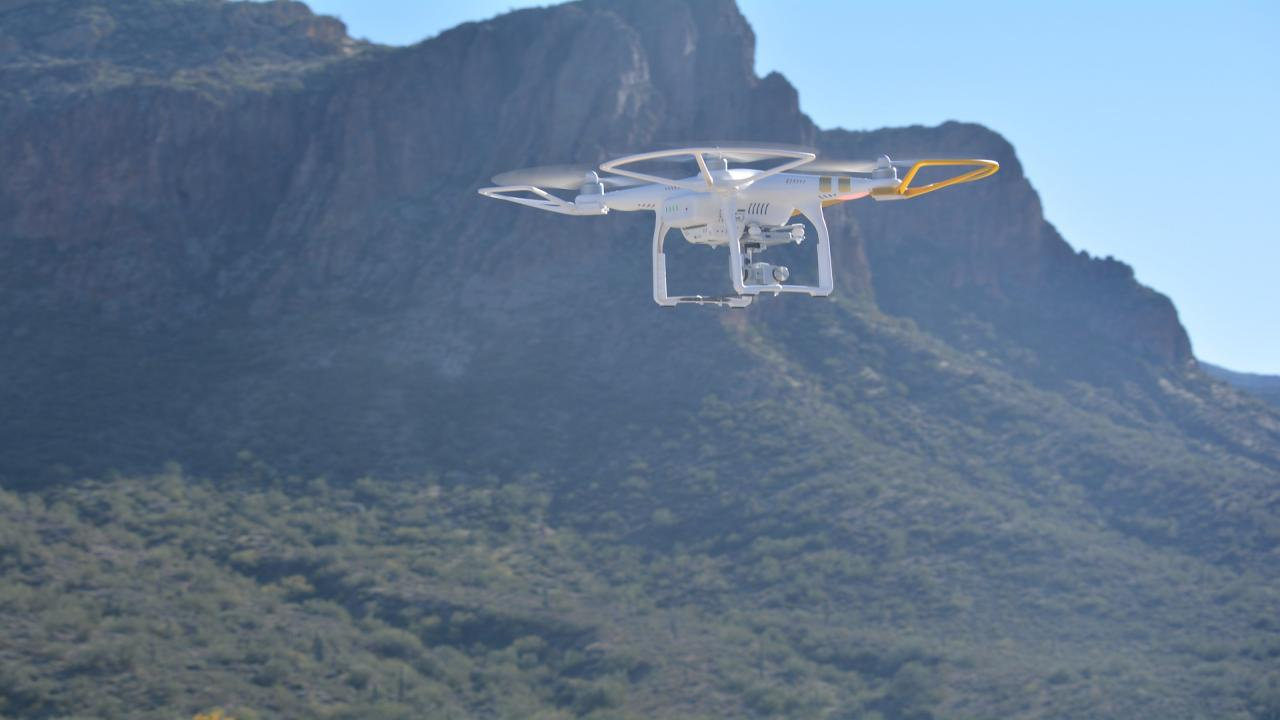Drone: (451, 116, 1027, 319)
